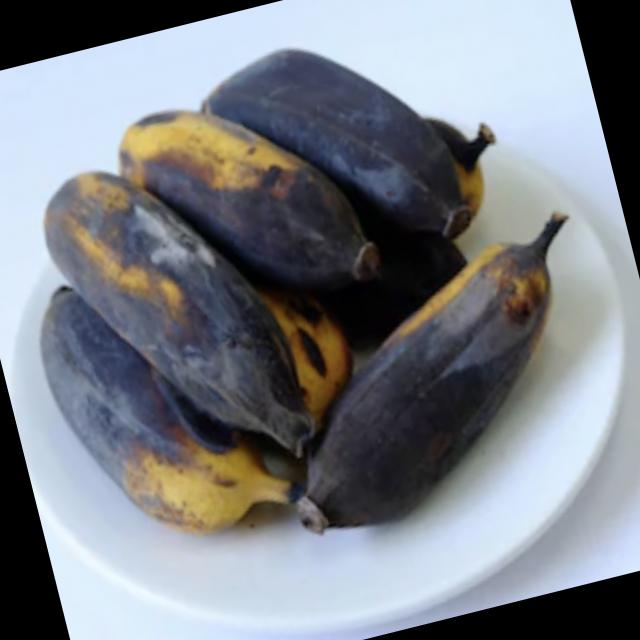rotten-banana: (246, 236, 597, 548), (27, 138, 323, 491), (24, 264, 286, 594), (99, 51, 390, 330), (210, 0, 459, 275)
